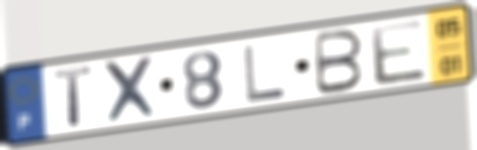8: (181, 48, 226, 112)
B: (312, 27, 366, 98)
E: (366, 16, 431, 89)
L: (240, 43, 289, 105)
T: (51, 64, 97, 130)
X: (99, 54, 164, 127)
